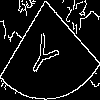Y: (25, 25, 65, 83)
